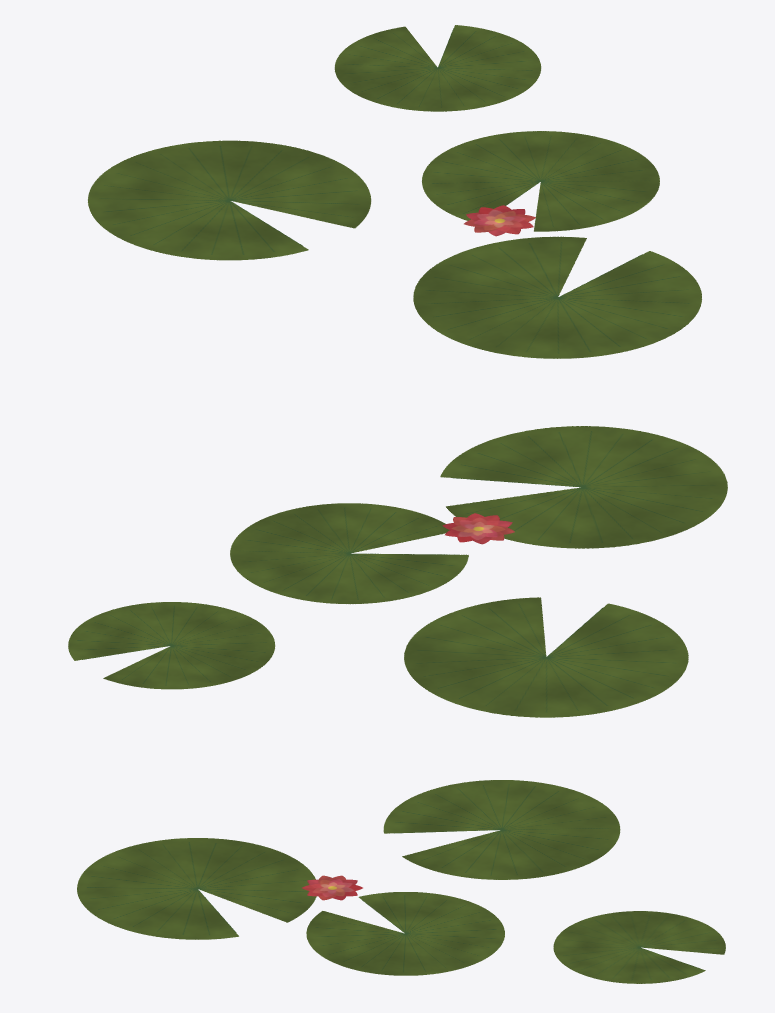
The model's file is WaterLily_2_LOD2.gltf.
3 views of the same model, one above another, from view 1: azimuth 30°, elevation 25°; view 2: azimuth 150°, elevation 25°; view 3: azimuth 270°, elevation 25° (orthographic). The views are drawn at different scales.
Visible parts, largest first — view 1: WaterLily_2_LOD2; view 2: WaterLily_2_LOD2; view 3: WaterLily_2_LOD2.
Part boxes in pixels (left/top/right/bottom): WaterLily_2_LOD2: left=88, top=25, right=701, bottom=358; WaterLily_2_LOD2: left=68, top=426, right=727, bottom=717; WaterLily_2_LOD2: left=77, top=780, right=725, bottom=983.
Size of the model in its own units: 0.8884 by 0.0193 by 1.17.
2 materials, 2 textured.
